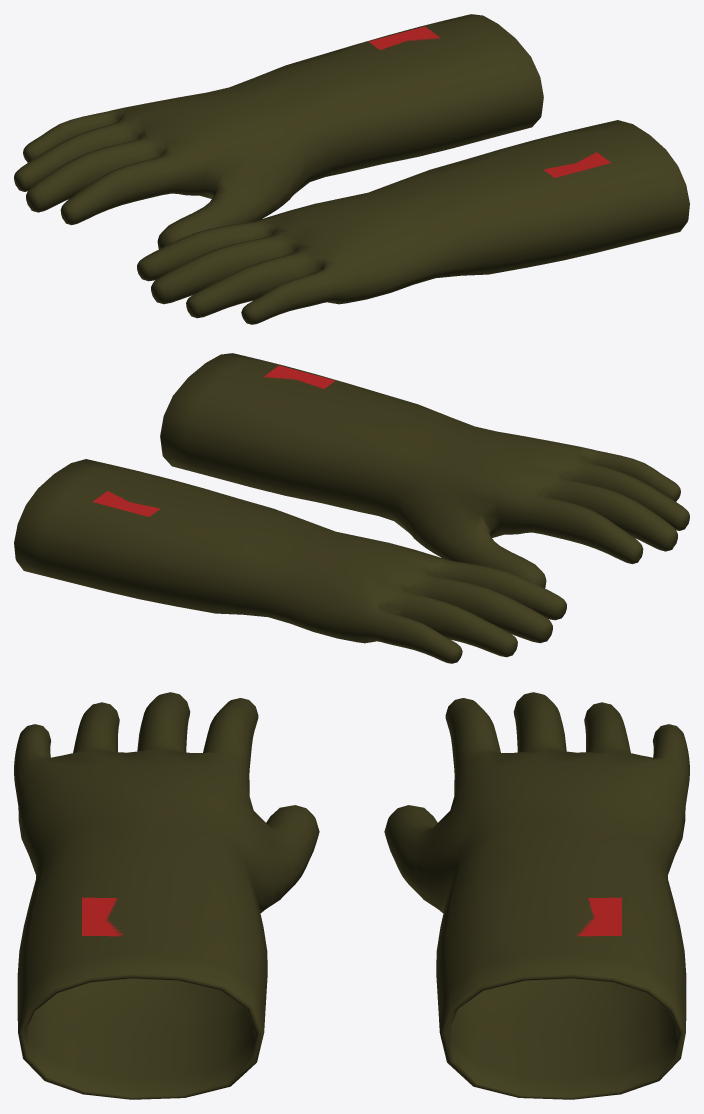
File: SIZ_dielectric_gloves.fbx
3 renders of one model, top to bottom at view 1: azimuth 30°, elevation 25°; view 2: azimuth 150°, elevation 25°; view 3: azimuth 270°, elevation 25°, orthographic. The views are drawn at different scales.
Parts seen in each view (by area): view 1: Диэлектрическая_перчатка_правая, Диэлектрическая_перчатка_левая, Диэлектрическая_перчатка_декаль_правая, Диэлектрическая_перчатка_декаль_левая; view 2: Диэлектрическая_перчатка_левая, Диэлектрическая_перчатка_правая, Диэлектрическая_перчатка_декаль_левая, Диэлектрическая_перчатка_декаль_правая; view 3: Диэлектрическая_перчатка_левая, Диэлектрическая_перчатка_правая, Диэлектрическая_перчатка_декаль_правая, Диэлектрическая_перчатка_декаль_левая.
Boxes of the visible parts, box(x1,y1,x2,y2) form: Диэлектрическая_перчатка_правая: box(14, 14, 543, 249); Диэлектрическая_перчатка_левая: box(137, 120, 689, 324); Диэлектрическая_перчатка_декаль_правая: box(368, 26, 440, 50); Диэлектрическая_перчатка_декаль_левая: box(543, 152, 610, 177); Диэлектрическая_перчатка_левая: box(160, 353, 689, 588); Диэлектрическая_перчатка_правая: box(14, 459, 566, 663); Диэлектрическая_перчатка_декаль_левая: box(263, 365, 335, 388); Диэлектрическая_перчатка_декаль_правая: box(93, 491, 159, 516); Диэлектрическая_перчатка_левая: box(14, 692, 319, 1099); Диэлектрическая_перчатка_правая: box(384, 692, 689, 1099); Диэлектрическая_перчатка_декаль_правая: box(576, 897, 621, 936); Диэлектрическая_перчатка_декаль_левая: box(82, 897, 123, 936).
Bounding box in the file's own units: 39.22 × 7.91 × 32.73.
